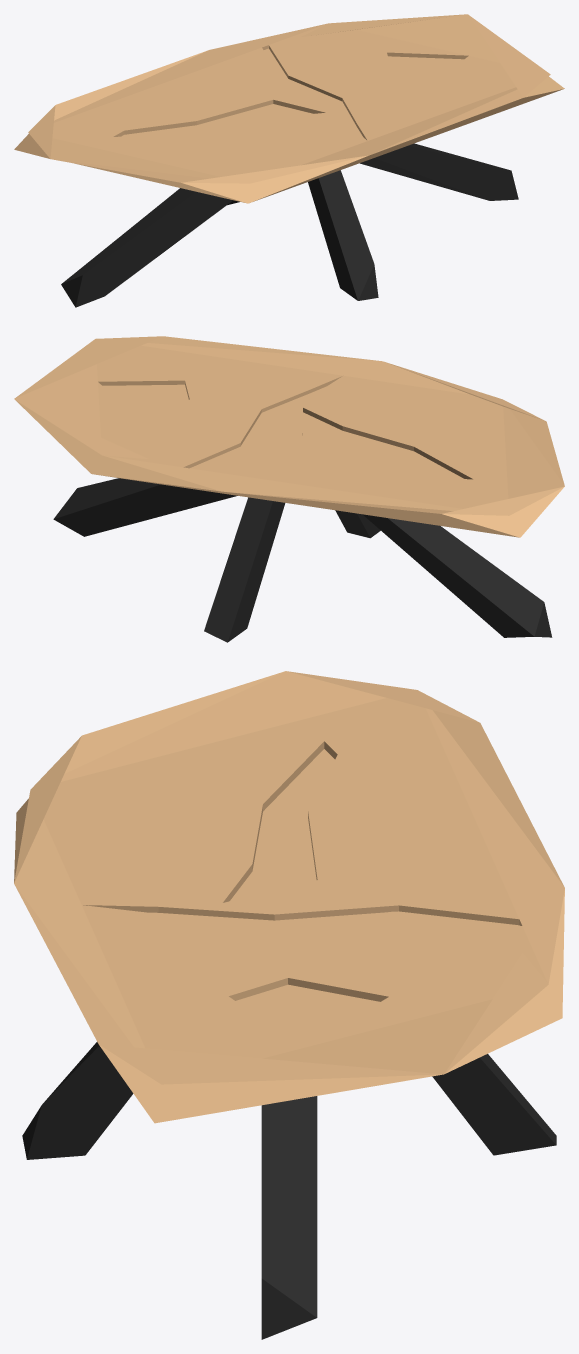
The model's file is table_basse.fbx.
3 views of the same model, one above another, from view 1: azimuth 30°, elevation 25°; view 2: azimuth 150°, elevation 25°; view 3: azimuth 270°, elevation 25° (orthographic). The views are drawn at different scales.
Parts seen in each view (by area): view 1: Cylinder.007; view 2: Cylinder.007; view 3: Cylinder.007.
Part boxes in pixels (<box>): Cylinder.007: <box>14,14,564,307</box>; Cylinder.007: <box>14,336,564,642</box>; Cylinder.007: <box>14,671,564,1339</box>.
Bounding box in the file's own units: 150 × 44.47 × 83.68.
